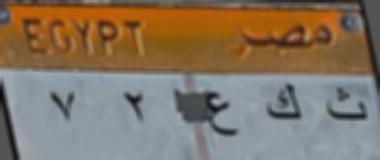2: (118, 86, 152, 134)
7: (48, 82, 83, 129)
ain: (203, 88, 242, 148)
kaaf: (256, 82, 304, 128)
thaa: (320, 81, 371, 128)
